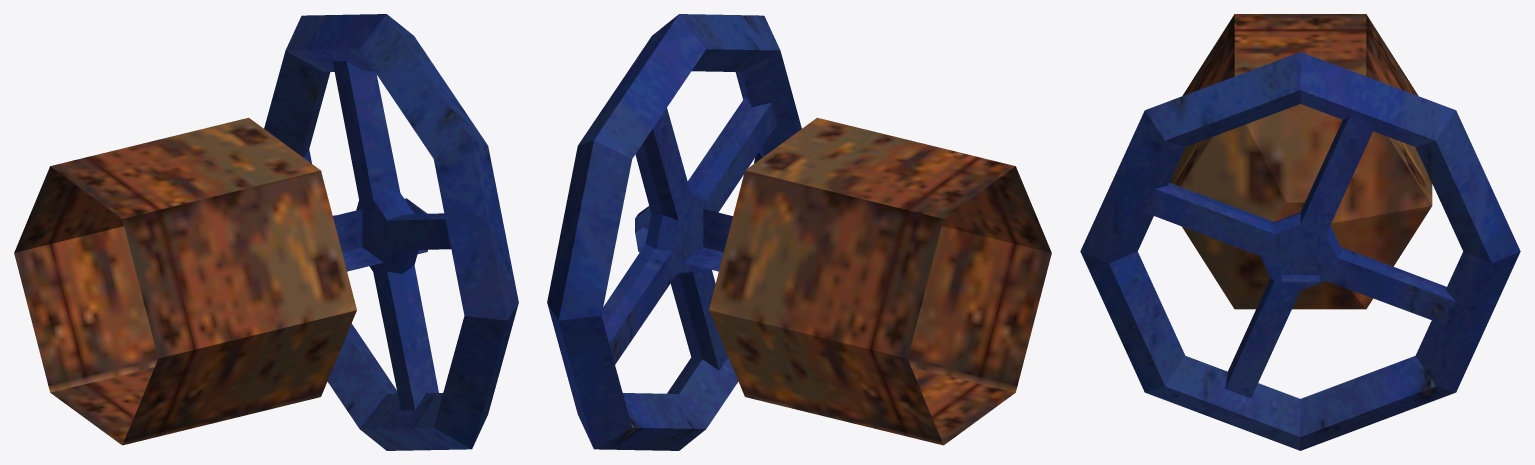
The model's file is valve_blue_end_piece_rusted.fbx.
The picture shows the model from 3 angles, left to right: view 1: azimuth 30°, elevation 25°; view 2: azimuth 150°, elevation 25°; view 3: azimuth 270°, elevation 25°; orthographic projection. The views are drawn at different scales.
Visible parts, largest first — view 1: valve_blue_end_piece_rusted; view 2: valve_blue_end_piece_rusted; view 3: valve_blue_end_piece_rusted.
Boxes of the visible parts, x1=… form: valve_blue_end_piece_rusted: x1=14, y1=14, x2=518, y2=450; valve_blue_end_piece_rusted: x1=547, y1=14, x2=1051, y2=450; valve_blue_end_piece_rusted: x1=1080, y1=14, x2=1520, y2=450.
Size of the model in its own units: 33.99 by 41.67 by 41.67.
2 materials, 2 textured.
